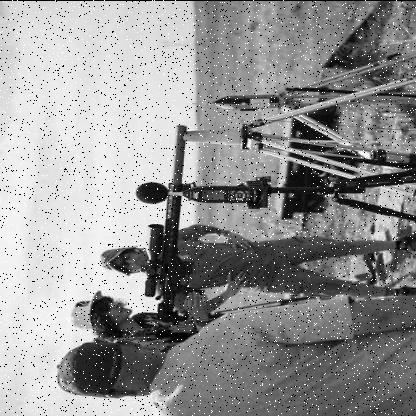rifle: (132, 171, 223, 324)
